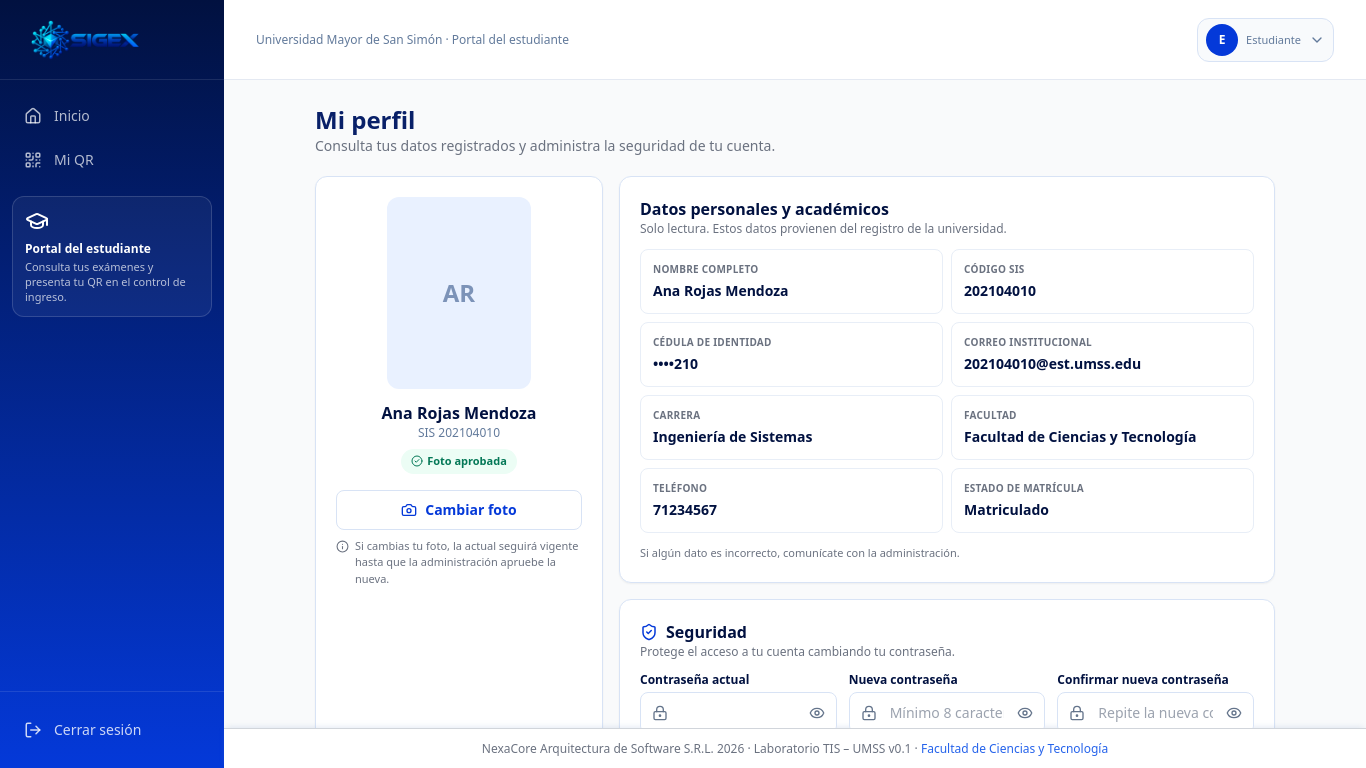
Scenario: MiPerfilPage (CTA-02) › no deja usar su código SIS como contraseña y cambia la contraseña válida
The width and height of the screenshot is (1366, 768).
Type "Clave#Segura9" into the password field labelled "Contraseña actual".
click(738, 712); type("Clave#Segura9")  # box [640,692,837,734]
Type "Sis#202104010" into the password field labelled "Nueva contraseña".
click(947, 712); type("Sis#202104010")  # box [849,692,1045,734]
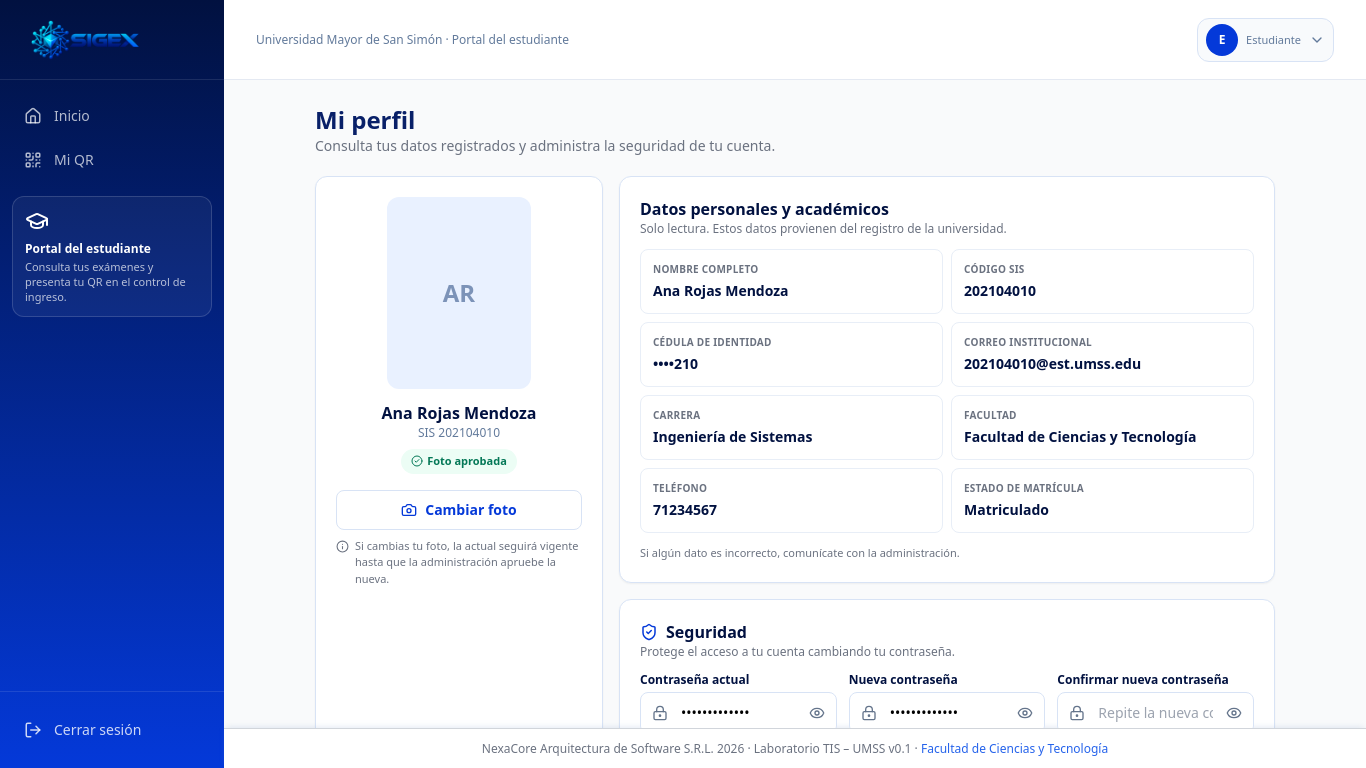
Type "Sis#202104010" into the password field labelled "Confirmar nueva contraseña".
click(1156, 712); type("Sis#202104010")  # box [1057,692,1254,734]
(page scrolled)
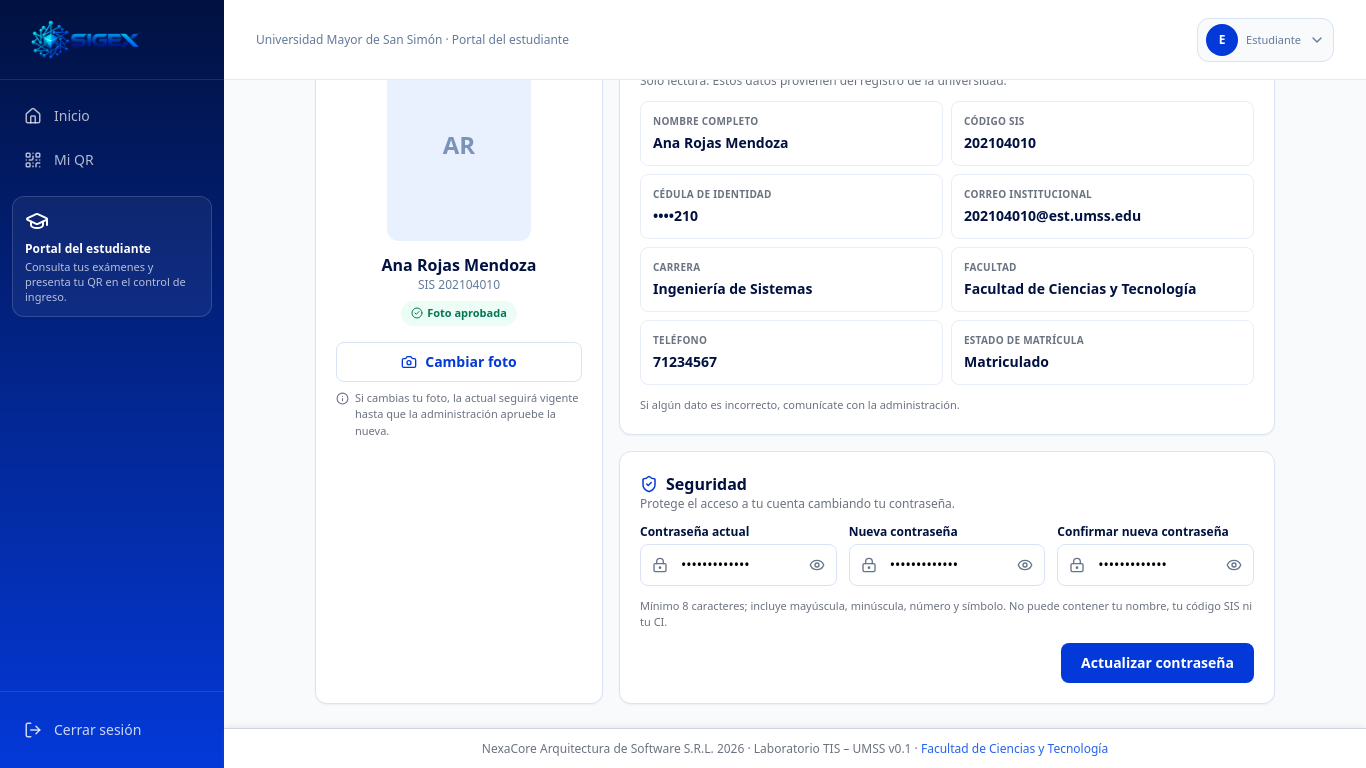
Click the button "Actualizar contraseña".
click(1158, 662)  # box [1061,642,1254,682]
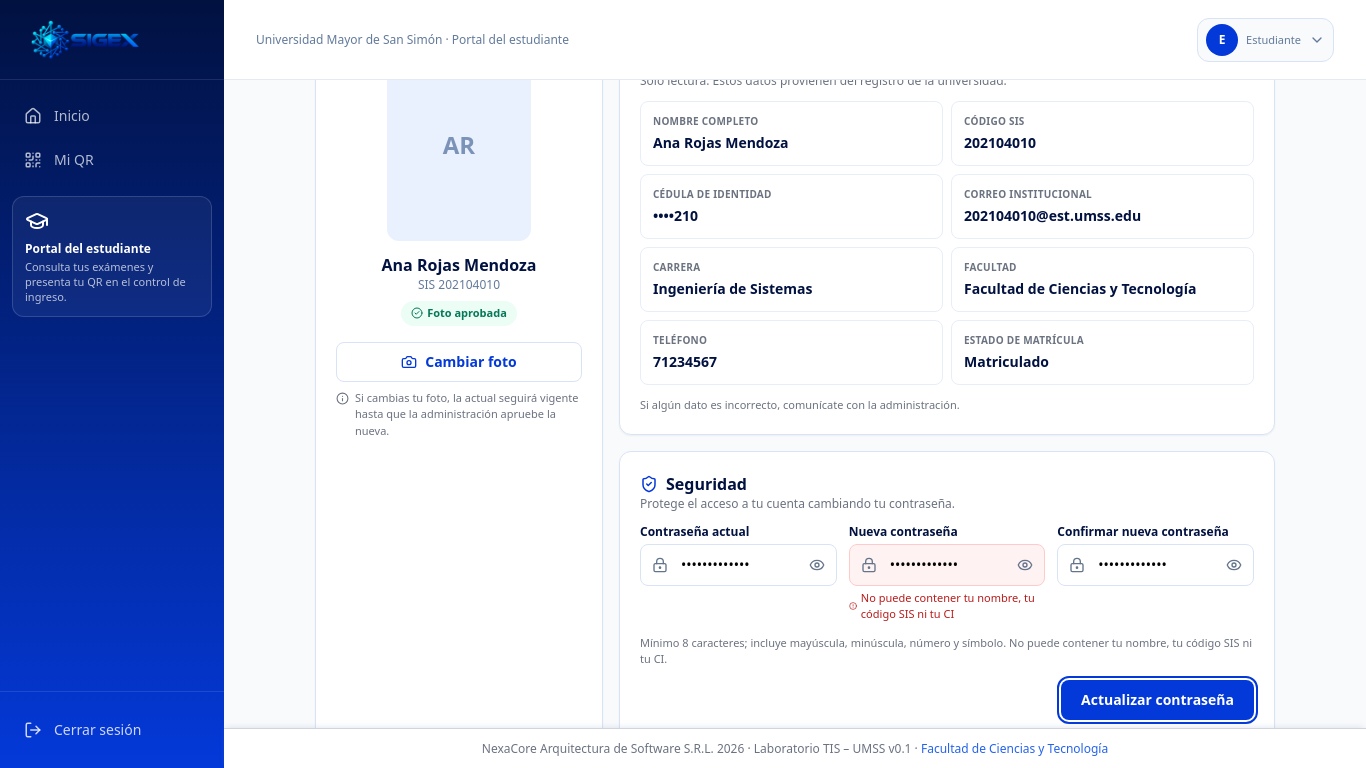
Now the text "No puede contener tu nombre, tu código SIS ni tu CI" is shown, box [849,590,1045,622]
Type "Otra#Clave77" into the password field labelled "Nueva contraseña".
click(947, 564); type("Otra#Clave77")  # box [849,544,1045,586]
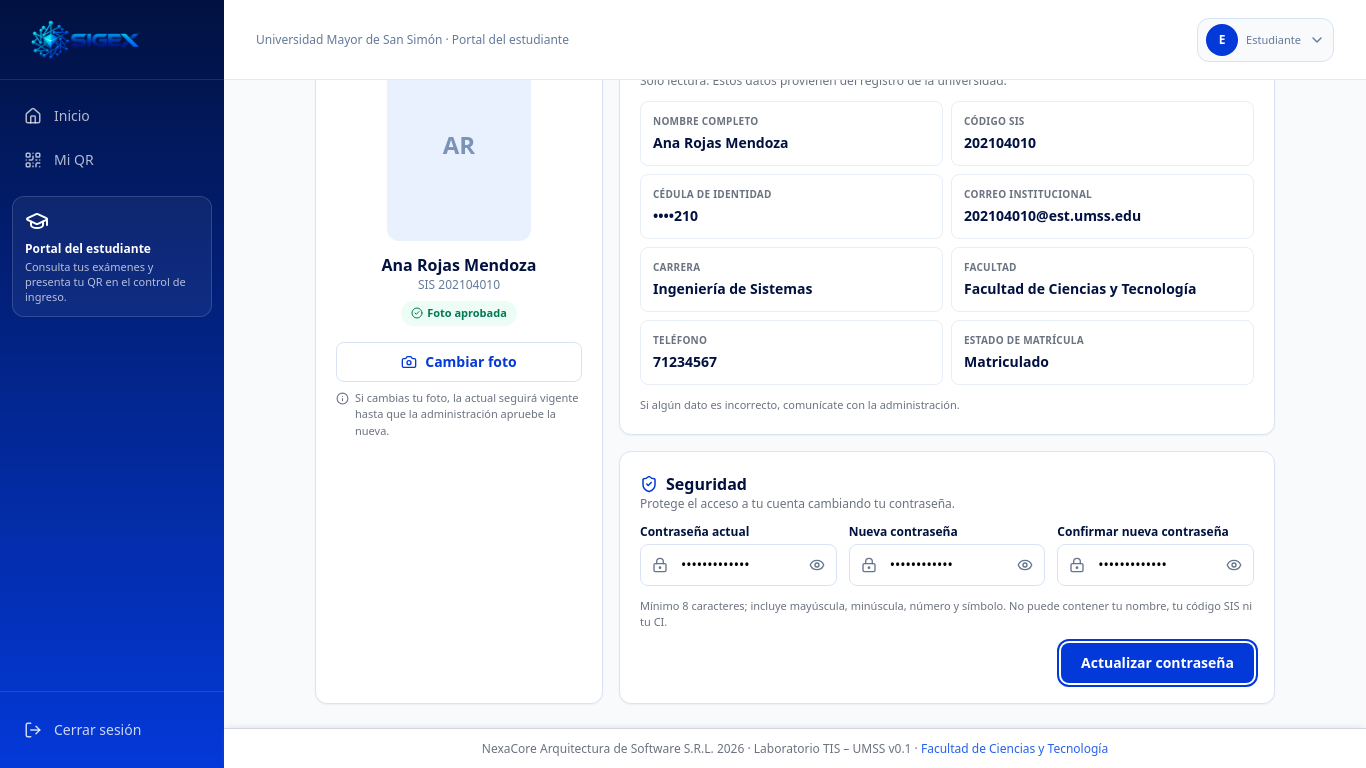
Type "Otra#Clave77" into the password field labelled "Confirmar nueva contraseña".
click(1156, 564); type("Otra#Clave77")  # box [1057,544,1254,586]
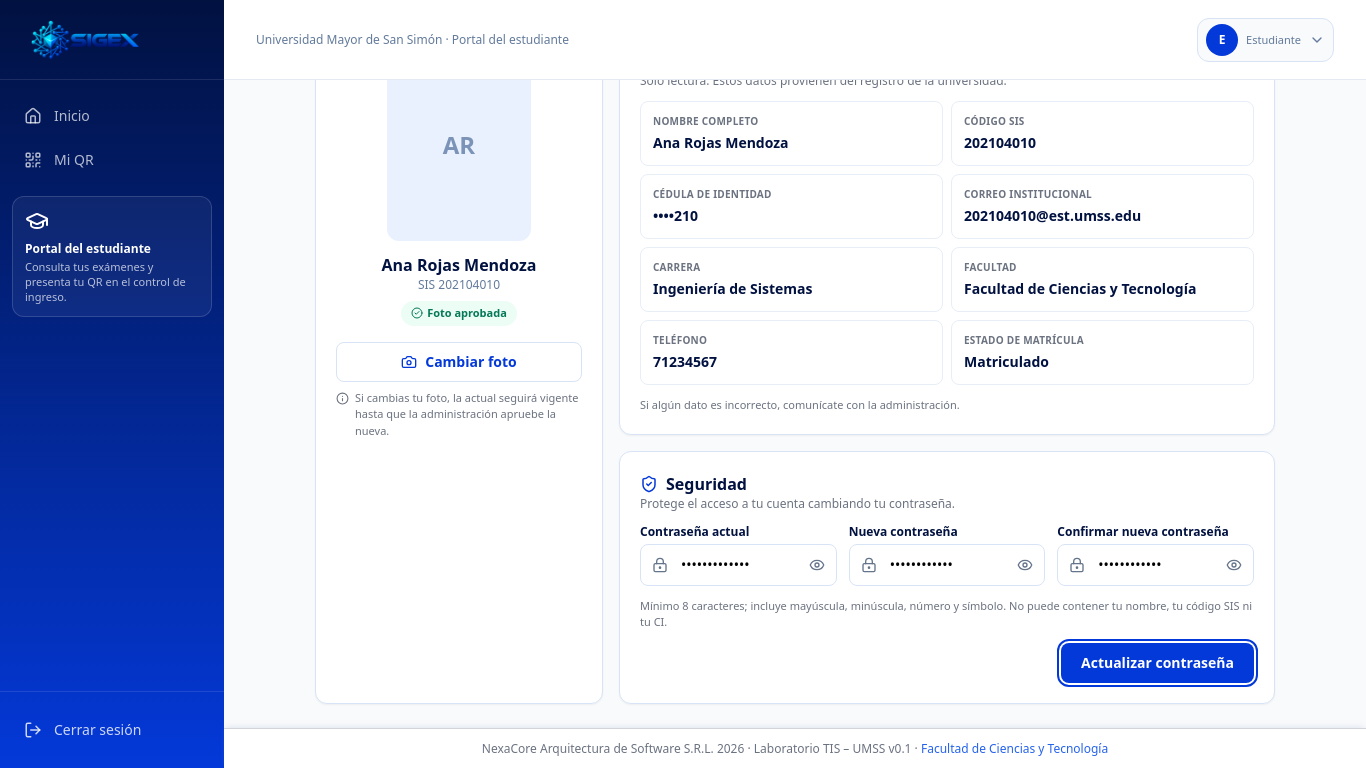
Click the button "Actualizar contraseña".
click(1158, 662)  # box [1061,642,1254,682]
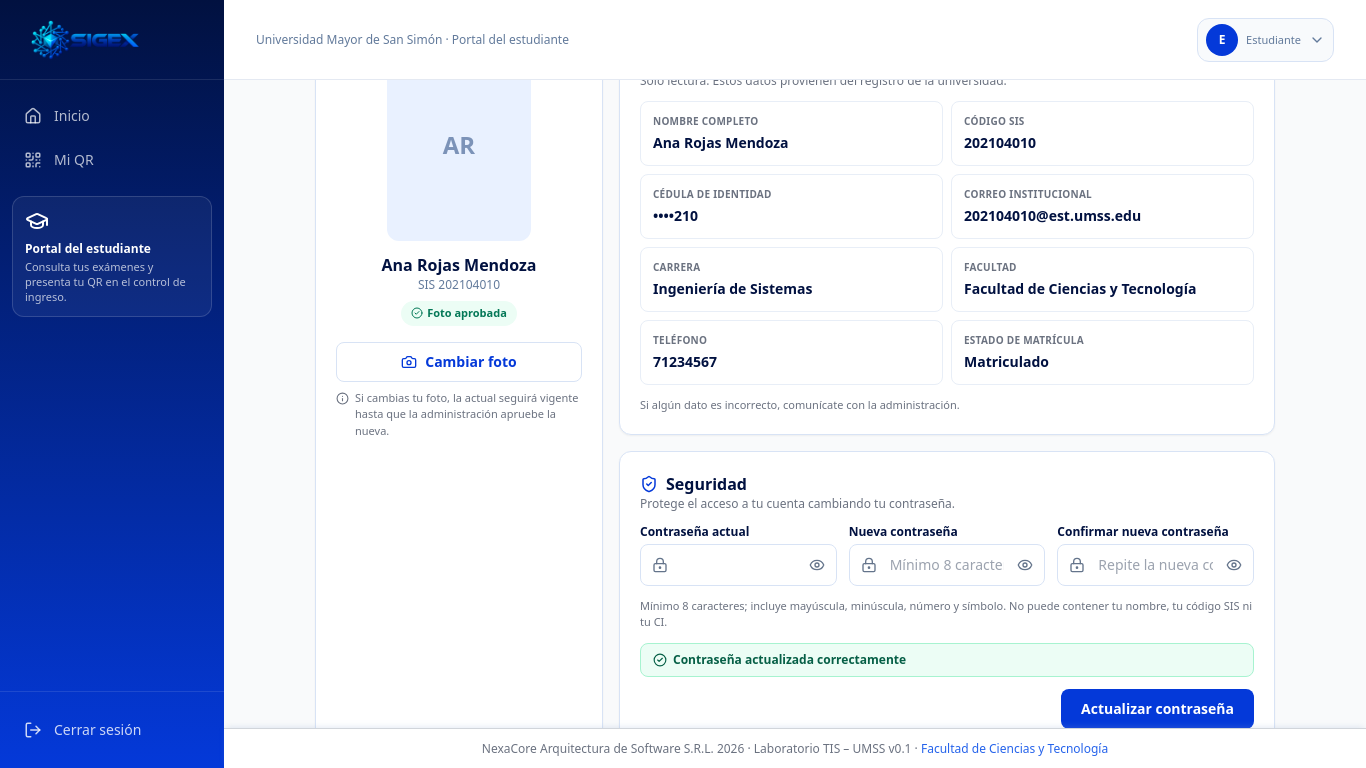
Now the text "Contraseña actualizada correctamente" is shown, box [640,642,1254,676]
